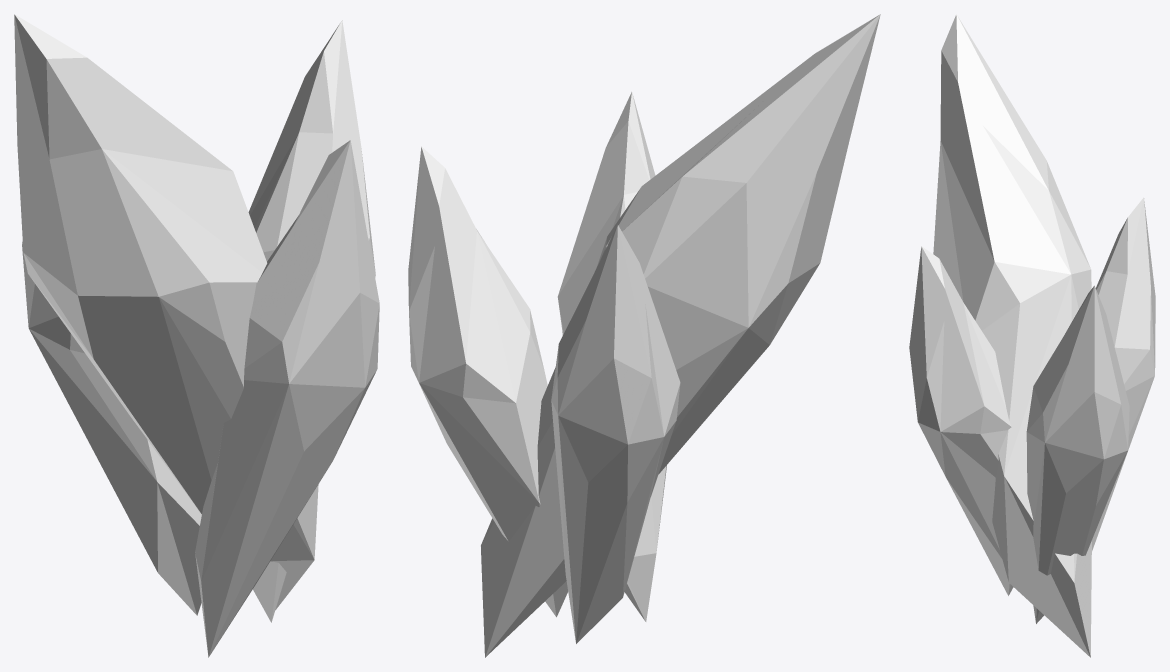
The model's file is Crystal 3.fbx.
3 renders of one model, left to right at view 1: azimuth 30°, elevation 25°; view 2: azimuth 150°, elevation 25°; view 3: azimuth 270°, elevation 25°, orthographic. The views are drawn at different scales.
Parts seen in each view (by area): view 1: Crystal 3; view 2: Crystal 3; view 3: Crystal 3.
Part boxes in pixels (x1=…): Crystal 3: x1=14, y1=14, x2=379, y2=657; Crystal 3: x1=408, y1=14, x2=880, y2=657; Crystal 3: x1=909, y1=14, x2=1155, y2=657.
Bounding box in the file's own units: 1339 × 2183 × 931.
1 material, 1 textured.
